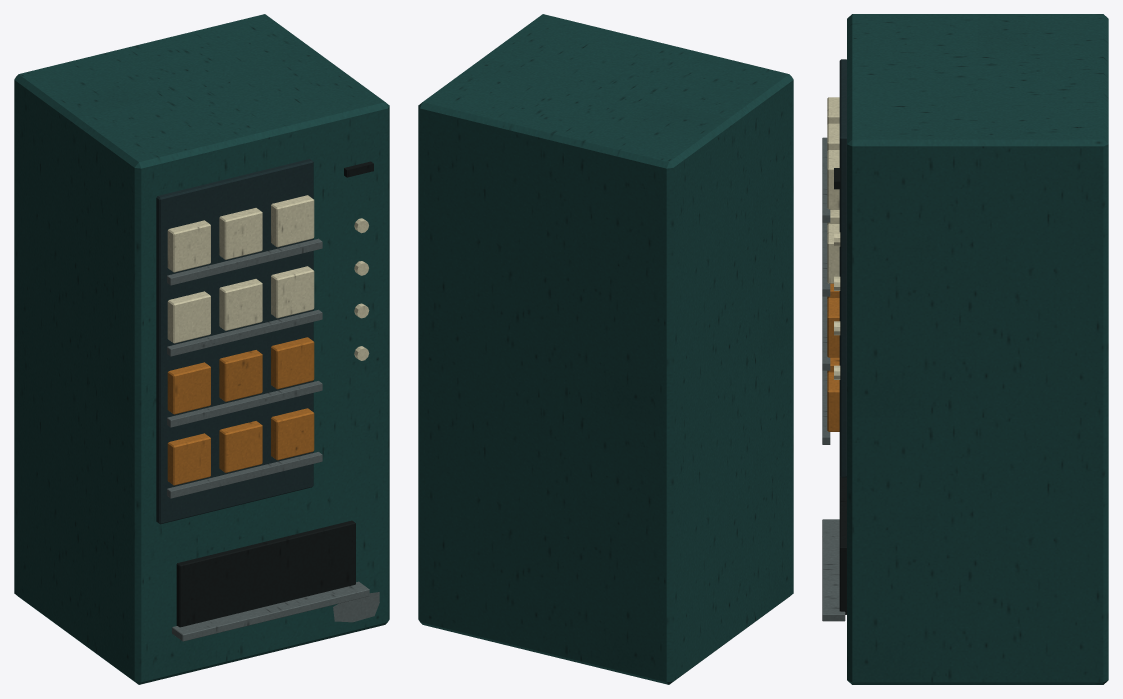
The model's file is vending_machine.glb.
3 views of the same model, side by side, from view 1: azimuth 30°, elevation 25°; view 2: azimuth 150°, elevation 25°; view 3: azimuth 270°, elevation 25° (orthographic). The views are drawn at different scales.
Visible parts, largest first — view 1: vending_machine; view 2: vending_machine; view 3: vending_machine.
Part boxes in pixels (bbox=[...]): vending_machine: bbox=[14, 14, 389, 684]; vending_machine: bbox=[418, 14, 793, 684]; vending_machine: bbox=[822, 14, 1108, 684].
Size of the model in its own units: 0.94 by 1.84 by 0.8755.
6 materials, 6 textured.
